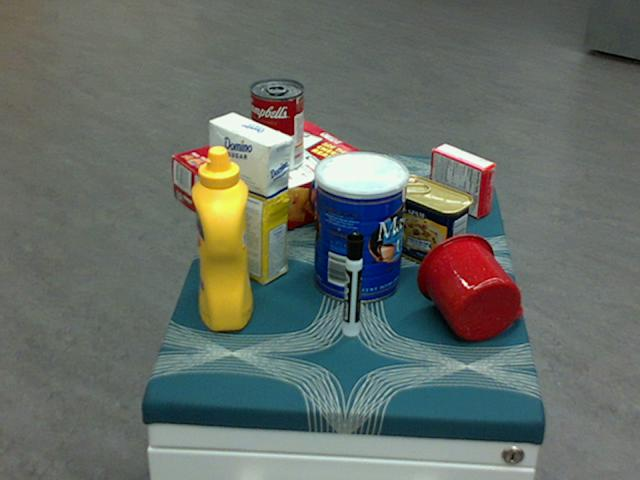cracker_box: (171, 117, 373, 249)
gelatin_box: (429, 143, 496, 218)
large_marker: (343, 231, 362, 337)
master_chef_can: (313, 151, 408, 303)
mug: (417, 232, 522, 340)
mustard_bottle: (191, 146, 252, 331)
potted_meat_can: (386, 175, 473, 268)
sugar_box: (209, 113, 291, 286)
tomato_soup_can: (249, 79, 304, 173)
tuna_fish_can: (307, 157, 377, 227)
